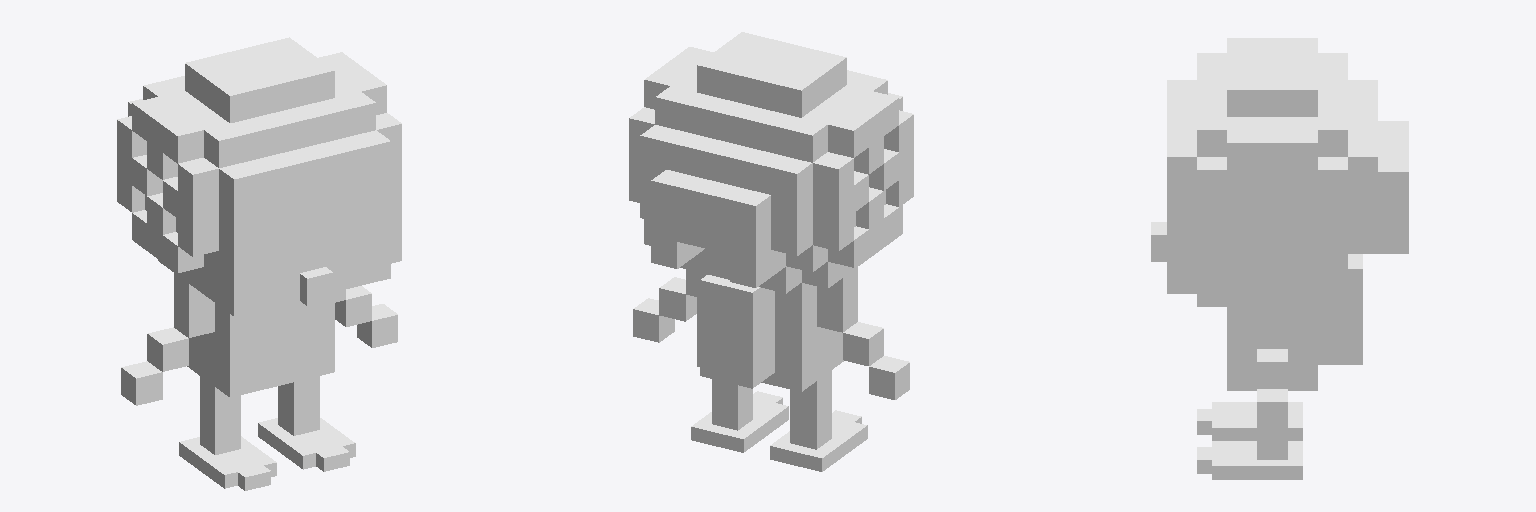
Rendered from ScubaDiver.obj.
3 views of the same model, side by side, from view 1: azimuth 30°, elevation 25°; view 2: azimuth 150°, elevation 25°; view 3: azimuth 270°, elevation 25° (orthographic).
Size of the model in its own units: 20 by 28 by 17.